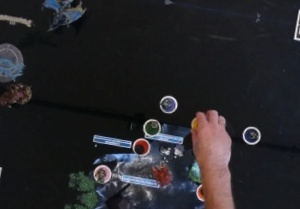blue: (240, 121, 265, 147)
green: (142, 117, 164, 137)
orange: (193, 181, 215, 205)
pink: (89, 159, 118, 187)
red: (128, 134, 155, 159)
violet: (157, 91, 182, 117)
yellow: (188, 111, 212, 135)
